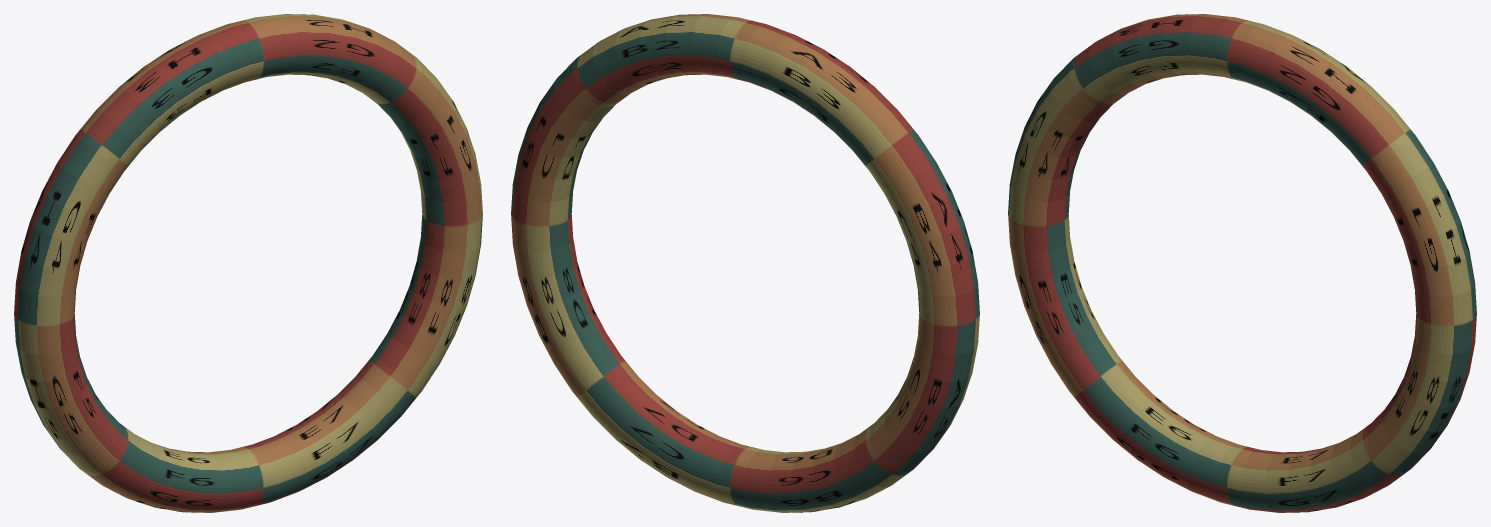
Rendered from texture_torus_R30_r7.glb.
The picture shows the model from 3 angles, left to right: view 1: azimuth 30°, elevation 25°; view 2: azimuth 150°, elevation 25°; view 3: azimuth 330°, elevation 25°; orthographic projection.
Visible parts, largest first — view 1: world; view 2: world; view 3: world.
Part boxes in pixels (x1,y1,x2,y2): world: [14, 14, 482, 512]; world: [511, 14, 979, 512]; world: [1008, 14, 1476, 512].
Bounding box in the file's own units: 33.87 × 33.8 × 3.86.
1 material, 1 textured.
